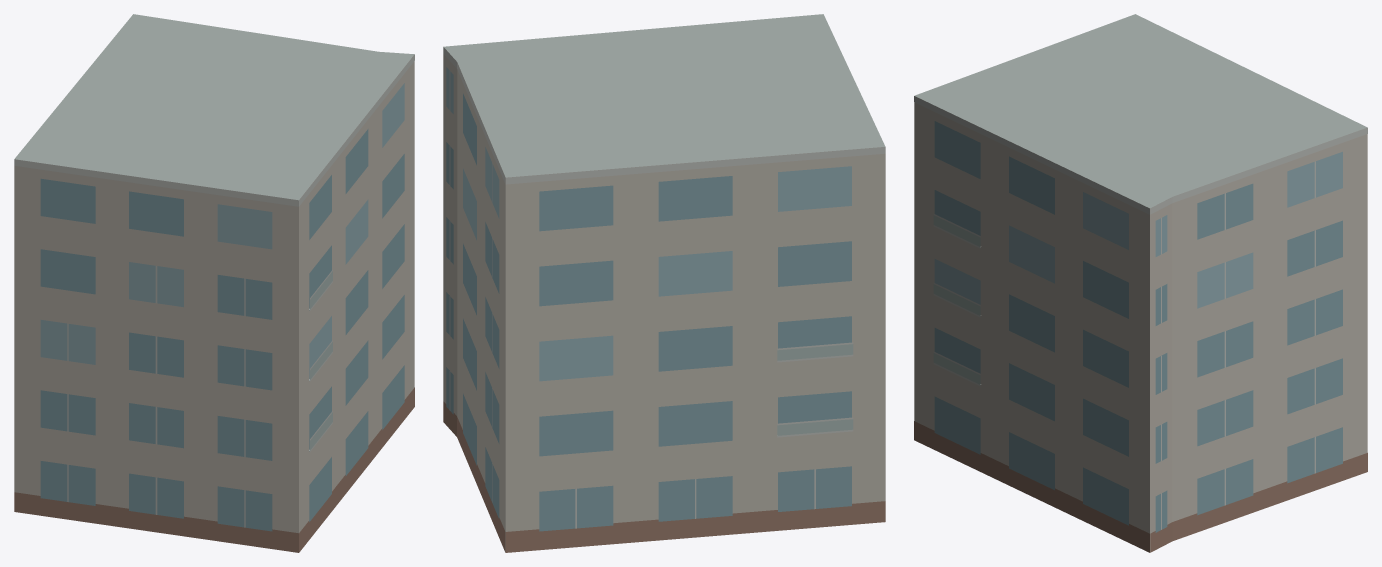
File: survey-upis-32929152.glb
3 views of the same model, side by side, from view 1: azimuth 30°, elevation 25°; view 2: azimuth 150°, elevation 25°; view 3: azimuth 270°, elevation 25° (orthographic). The views are drawn at different scales.
Parts seen in each view (by area): view 1: survey-upis-32929152.tmp; view 2: survey-upis-32929152.tmp; view 3: survey-upis-32929152.tmp.
Part boxes in pixels (x1=…): survey-upis-32929152.tmp: x1=14, y1=14, x2=414, y2=552; survey-upis-32929152.tmp: x1=443, y1=14, x2=885, y2=552; survey-upis-32929152.tmp: x1=914, y1=14, x2=1367, y2=552.
Bounding box in the file's own units: 15.99 × 13.2 × 15.77.
